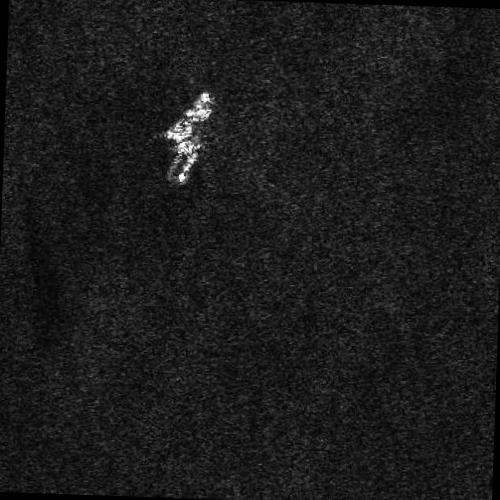ship: (163, 92, 214, 147), (165, 140, 198, 186)
